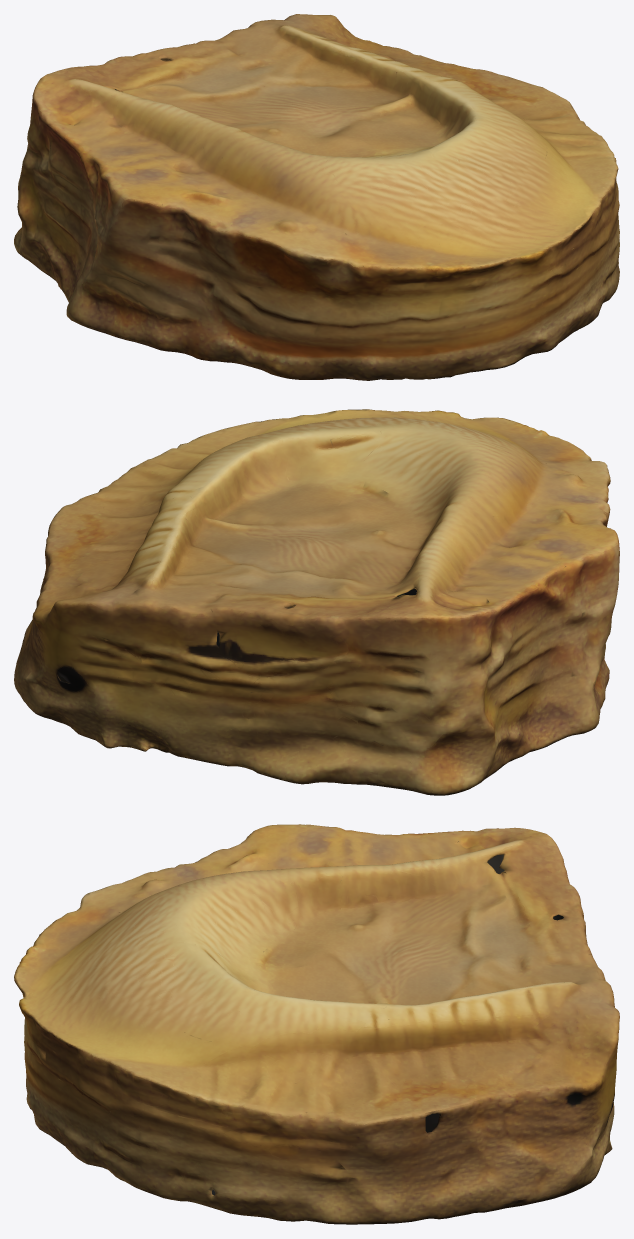
The picture shows the model from 3 angles, top to bottom: view 1: azimuth 30°, elevation 25°; view 2: azimuth 150°, elevation 25°; view 3: azimuth 270°, elevation 25°; orthographic projection. The views are drawn at different scales.
Visible parts, largest first — view 1: world; view 2: world; view 3: world.
Boxes of the visible parts, x1,y1,x2,y2 form: world: (14, 14, 619, 380); world: (14, 409, 619, 795); world: (14, 824, 619, 1224).
Bounding box in the file's own units: 21.96 × 7.41 × 22.
1 material, 1 textured.
